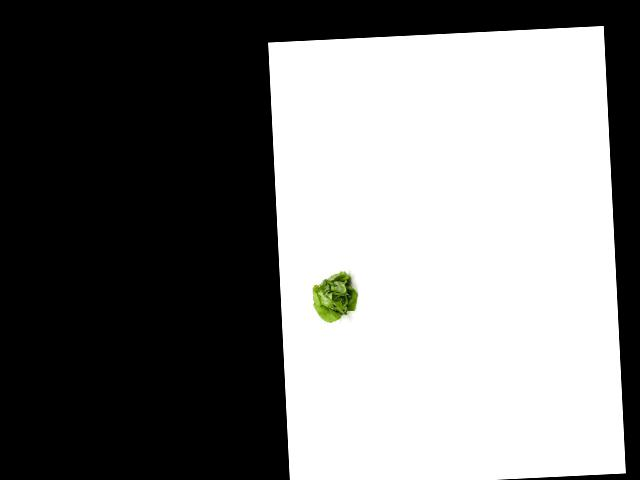lettuce: (307, 269, 361, 324)
